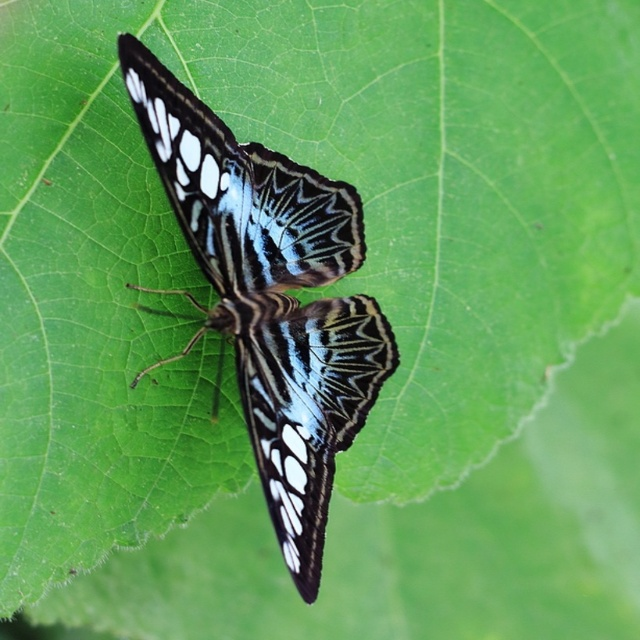Butterfly: (77, 53, 408, 639)
